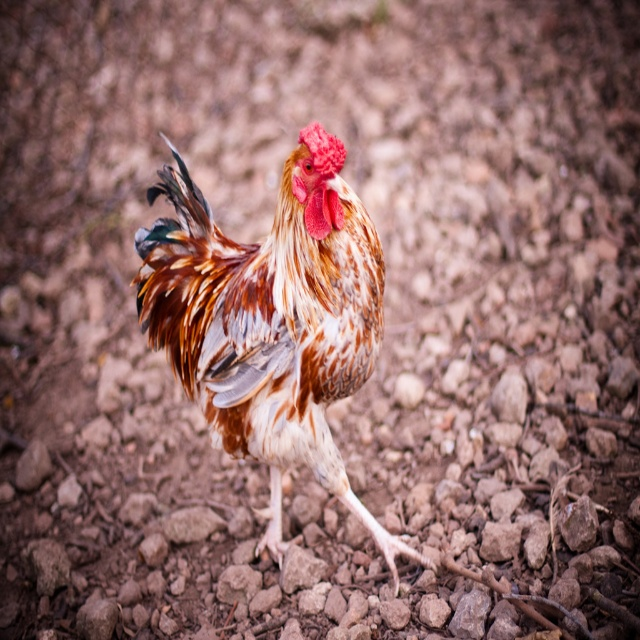Chicken: (130, 116, 420, 584)
